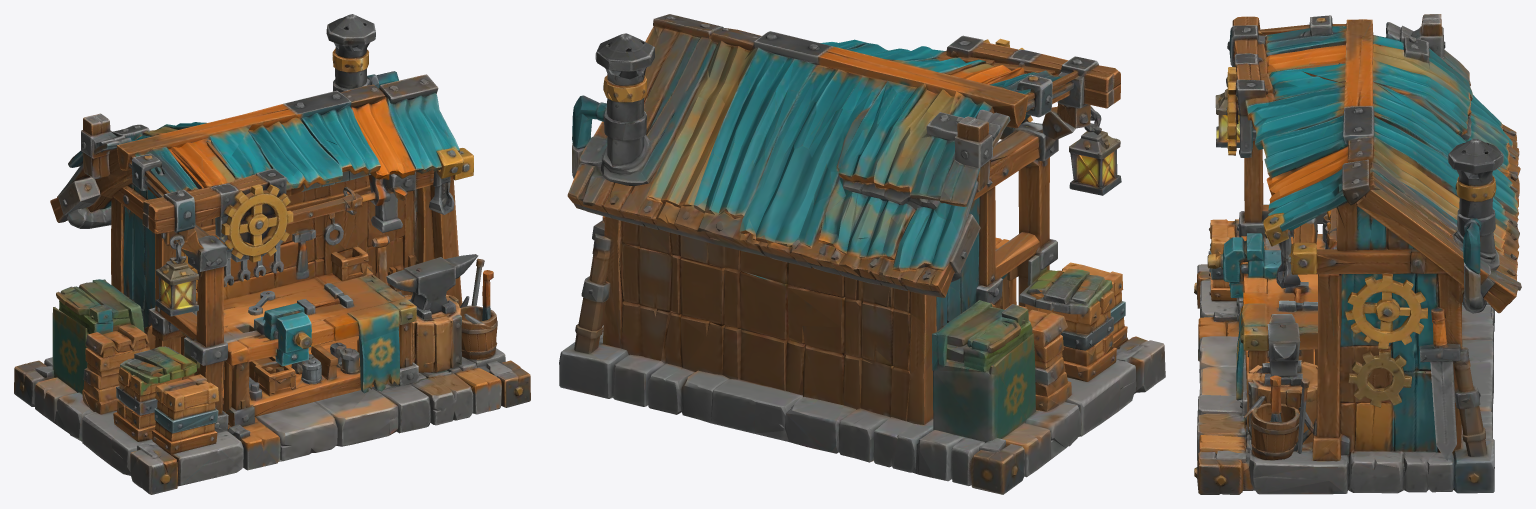
Rendered from building_workbench.glb.
The picture shows the model from 3 angles, left to right: view 1: azimuth 30°, elevation 25°; view 2: azimuth 150°, elevation 25°; view 3: azimuth 270°, elevation 25°; orthographic projection. The views are drawn at different scales.
Parts seen in each view (by area): view 1: output_unwrapped; view 2: output_unwrapped; view 3: output_unwrapped.
Boxes of the visible parts, x1,y1,x2,y2 form: output_unwrapped: [14, 14, 530, 494]; output_unwrapped: [559, 14, 1165, 494]; output_unwrapped: [1194, 14, 1521, 494].
Bounding box in the file's own units: 1.9 × 1.44 × 1.3.
1 material, 1 textured.
